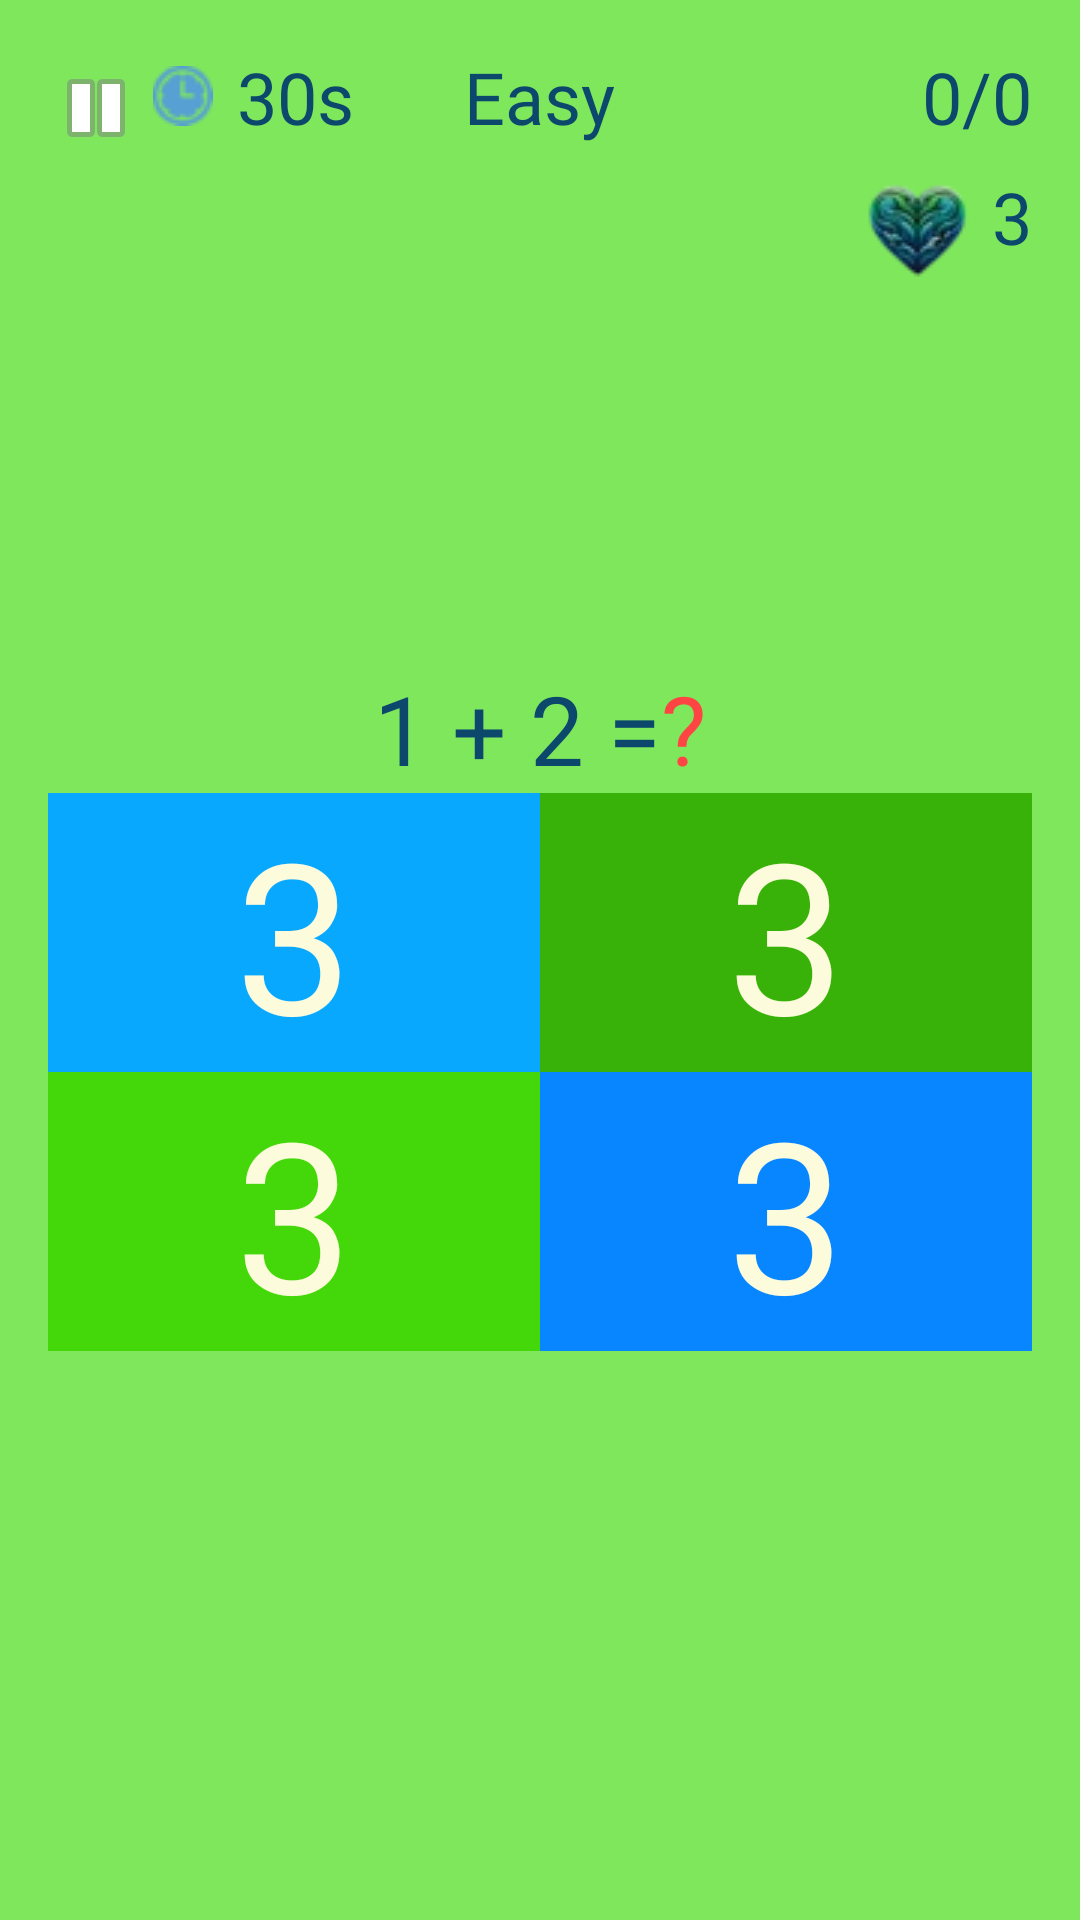

Named icons in this screenshot (1080×1920) and their centers, [x,y]:
Pause Menu: [96,108]
